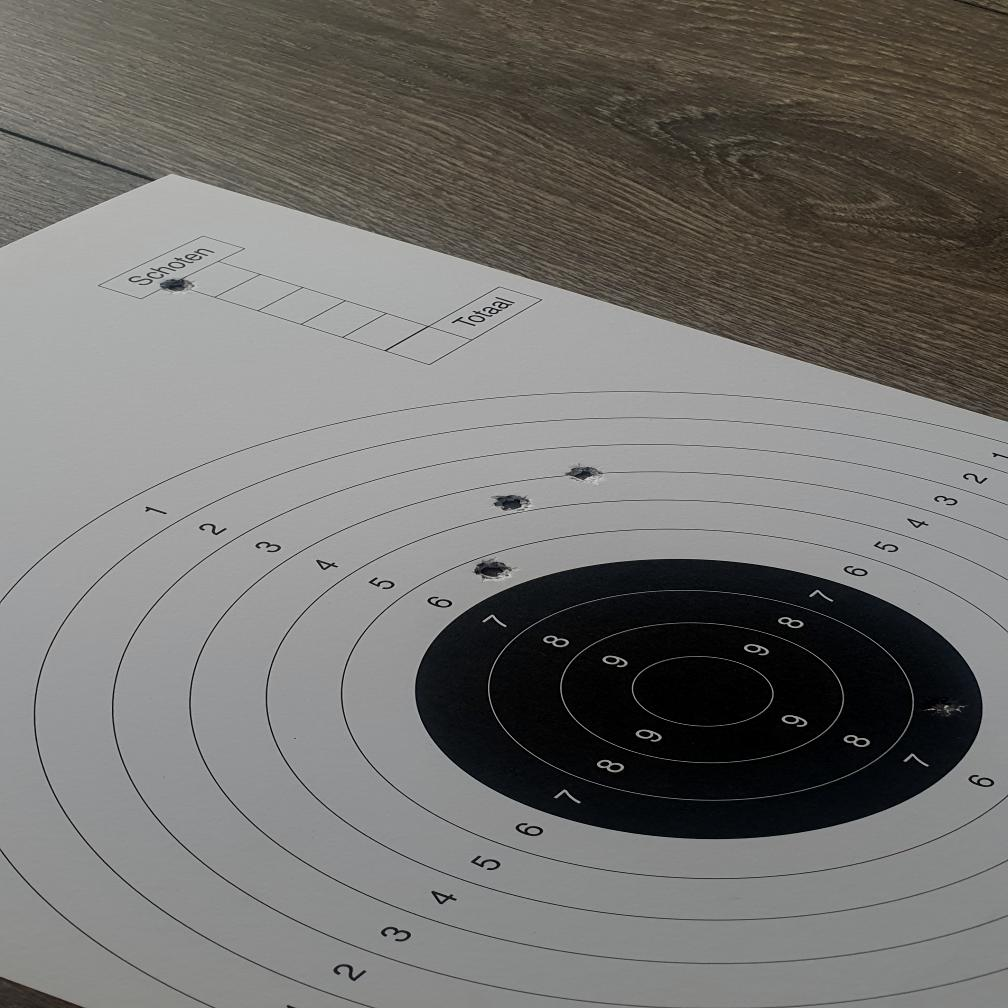0: (154, 274, 199, 294)
4: (558, 459, 610, 484), (487, 490, 537, 514)
6: (471, 556, 515, 580)
7: (917, 694, 968, 718)
Target: (5, 387, 1008, 1008)
black_contour: (414, 559, 982, 840)
